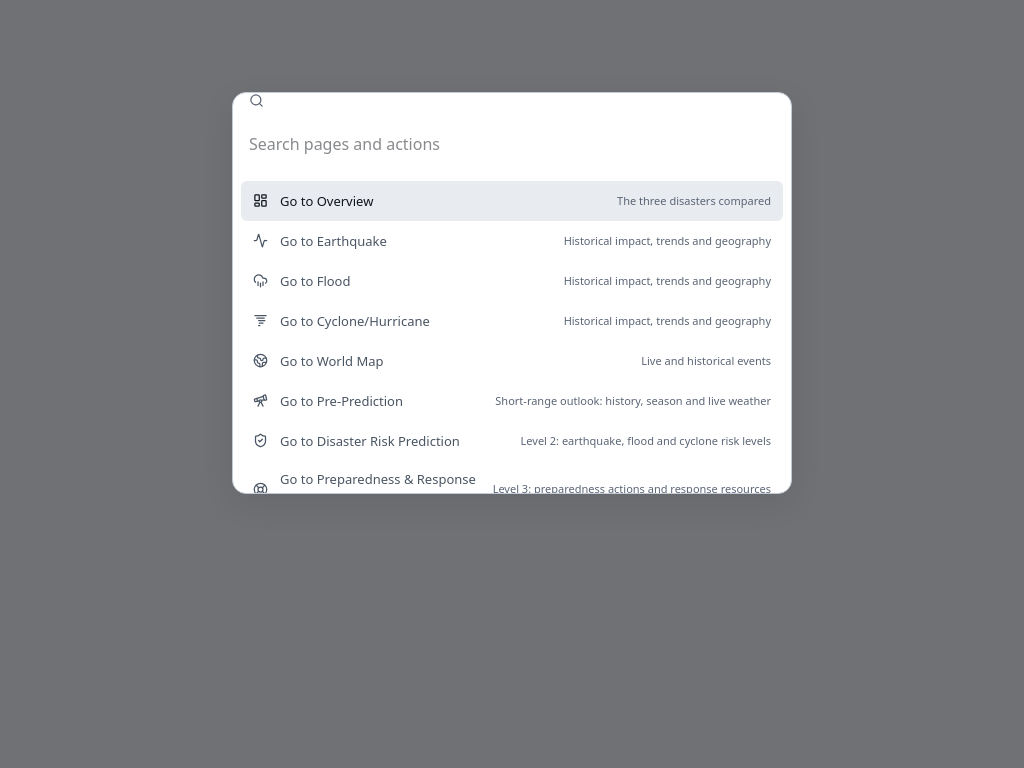
CommandPalette › filters as you type
Type "cyclone" into the field at (512, 145), box [249,116,775,173]
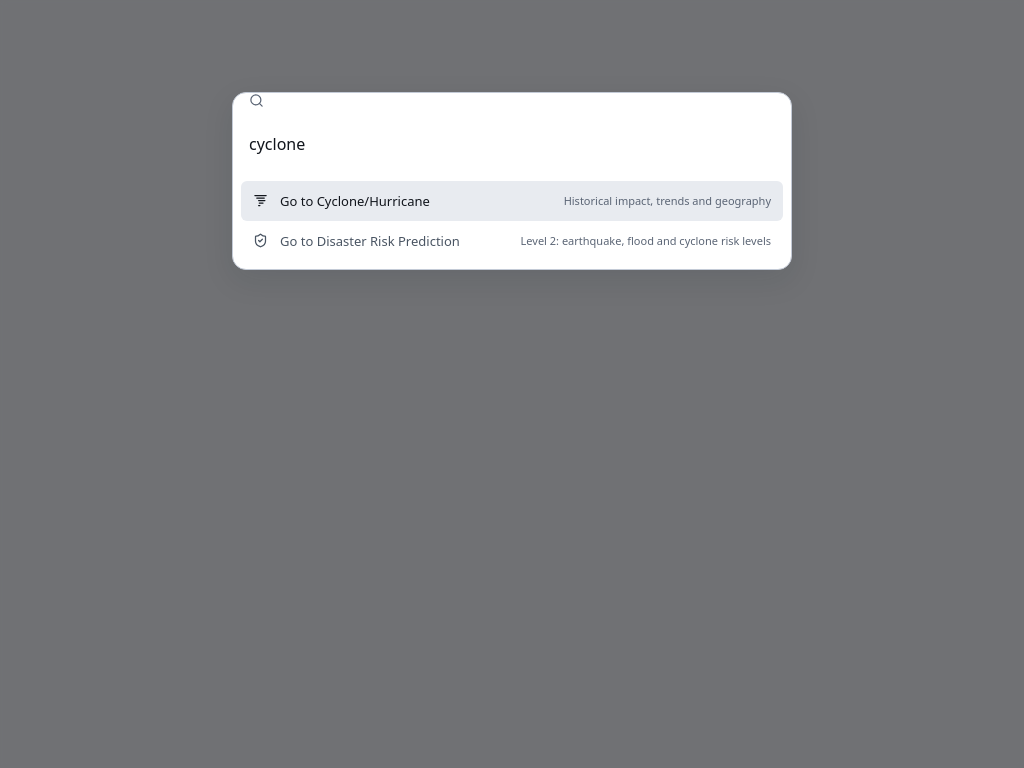
expect the option "Go to Cyclone" is shown: met, box [241,181,783,221]
expect the option "Go to Overview" is gone: met
